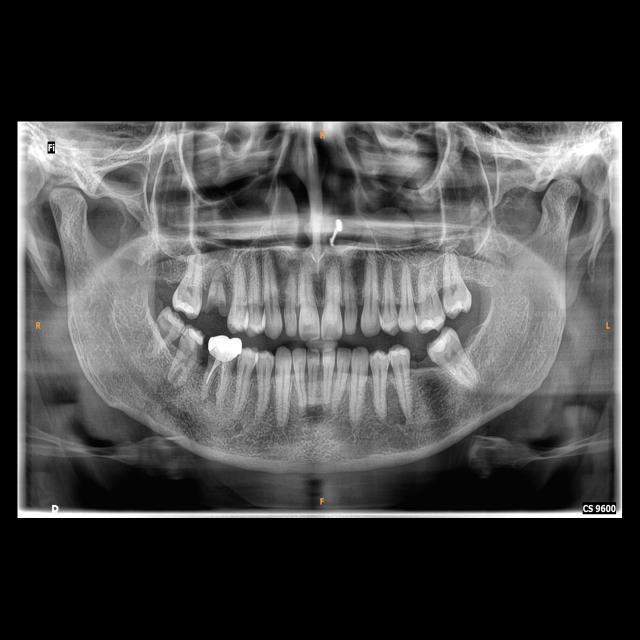kanal-tedavisi: (200, 359, 227, 393)
kaplama: (208, 334, 243, 362)
kirik: (204, 294, 230, 318)
kok-enfeksiyonu: (298, 395, 332, 425)
